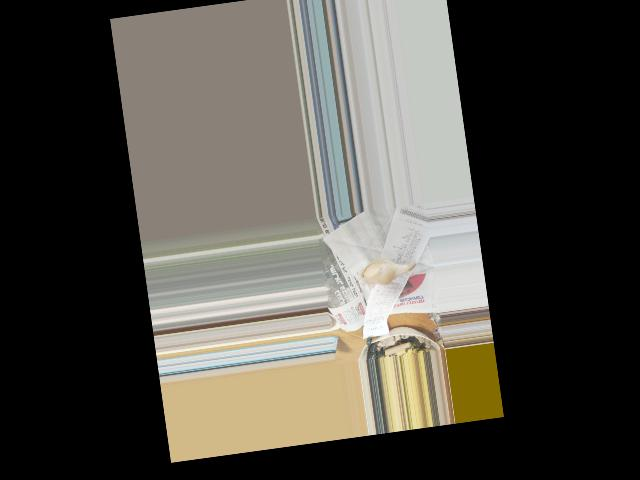onion: (361, 259, 399, 285)
